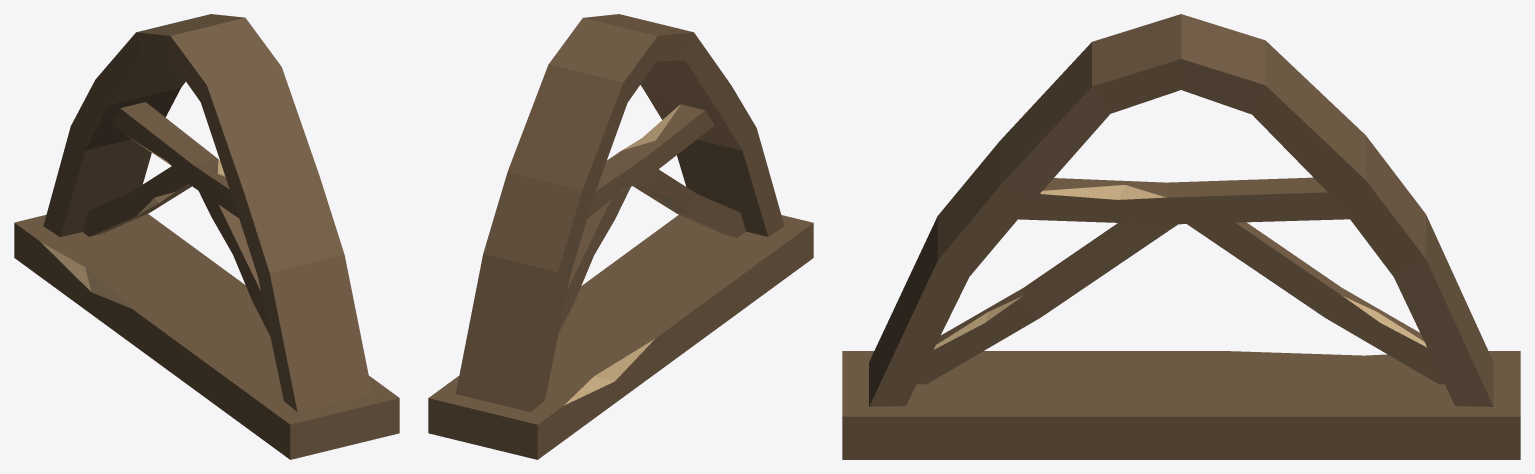
The model's file is rpgpp_ag_roof_02d_half_window_01b.fbx.
The picture shows the model from 3 angles, left to right: view 1: azimuth 30°, elevation 25°; view 2: azimuth 150°, elevation 25°; view 3: azimuth 270°, elevation 25°; orthographic projection. The views are drawn at different scales.
Visible parts, largest first — view 1: rpgpp_ag_roof_02d_half_window_01b; view 2: rpgpp_ag_roof_02d_half_window_01b; view 3: rpgpp_ag_roof_02d_half_window_01b.
Boxes of the visible parts, x1,y1,x2,y2 form: rpgpp_ag_roof_02d_half_window_01b: (14, 14, 399, 459); rpgpp_ag_roof_02d_half_window_01b: (428, 14, 813, 459); rpgpp_ag_roof_02d_half_window_01b: (842, 14, 1520, 459).
Size of the model in its own units: 0.4966 by 1.38 by 2.17.
